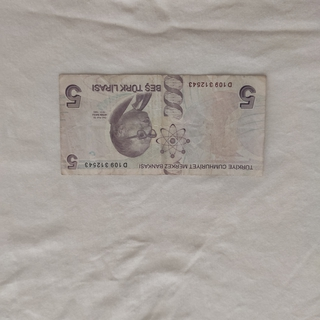5TLBack: (58, 72, 267, 176)
